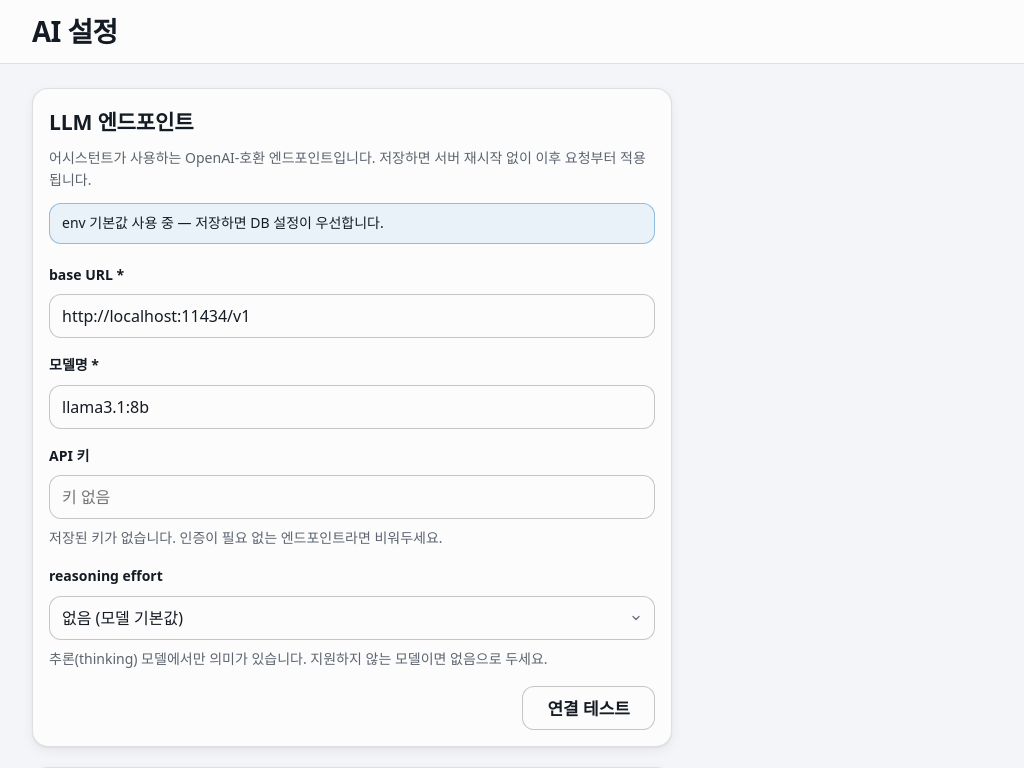
Test case: AiConfigPanel › 연결 테스트 성공 결과를 인라인으로 보여준다
Expected: the field labelled "base URL *" is shown, [49, 294, 655, 338]
Step 1. Click the button "연결 테스트" → (589, 708), box [522, 686, 655, 730]
(page scrolled)
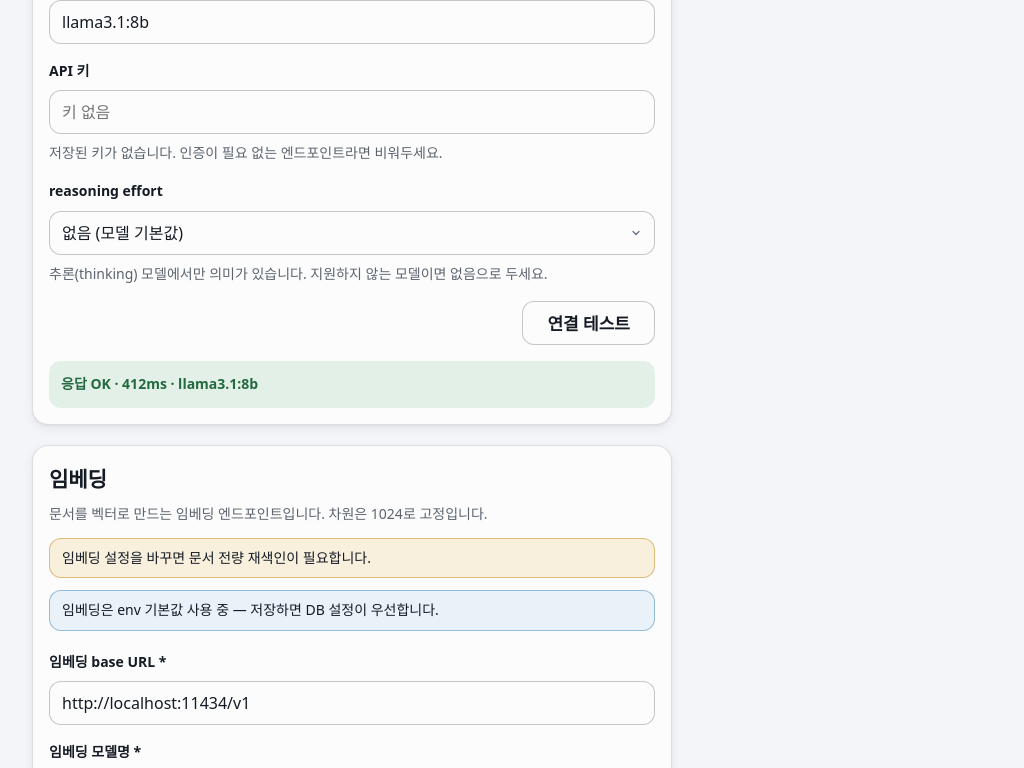
Result: the text "응답 OK · 412ms · llama3.1:8b" is shown at [49, 361, 655, 408]
